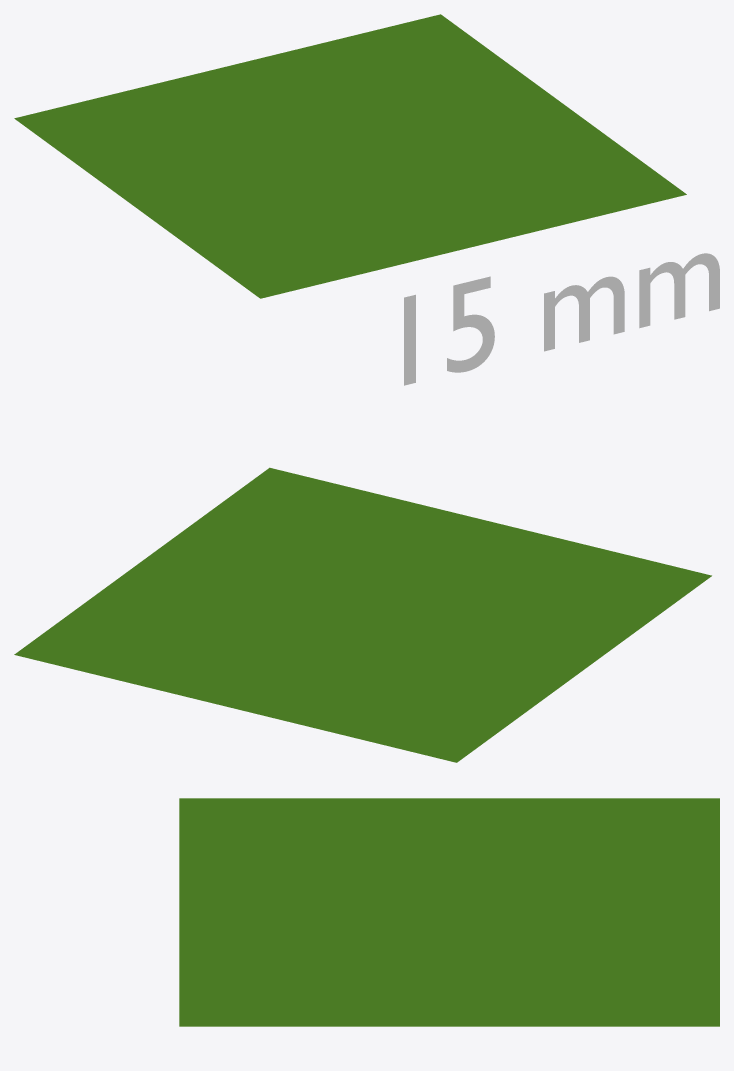
3 views of the same model, one above another, from view 1: azimuth 30°, elevation 25°; view 2: azimuth 150°, elevation 25°; view 3: azimuth 270°, elevation 25° (orthographic). The views are drawn at different scales.
Parts seen in each view (by area): view 1: Plane.003, Text.003; view 2: Plane.003; view 3: Plane.003.
Boxes of the visible parts, bbox=[...] form: Plane.003: bbox=[14, 14, 686, 298]; Text.003: bbox=[404, 253, 719, 385]; Plane.003: bbox=[14, 467, 711, 762]; Plane.003: bbox=[179, 798, 719, 1026].
Bounding box in the file's own units: 2 × 0.3998 × 2.61.
